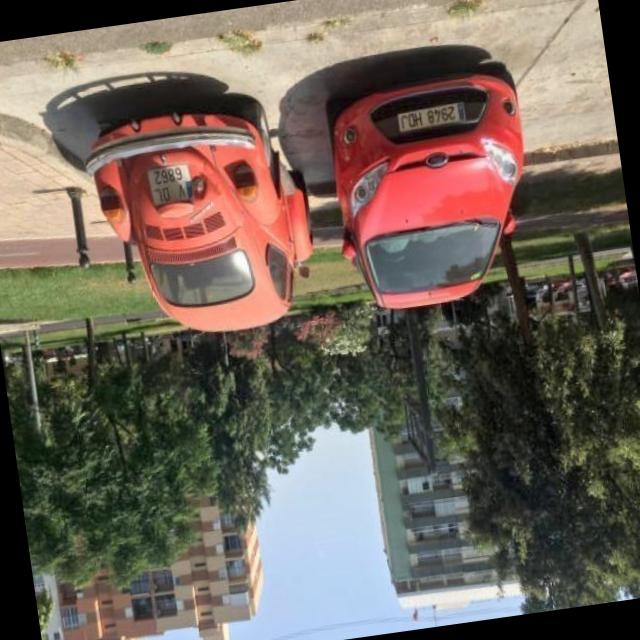car: (80, 91, 324, 338), (318, 72, 544, 315)
